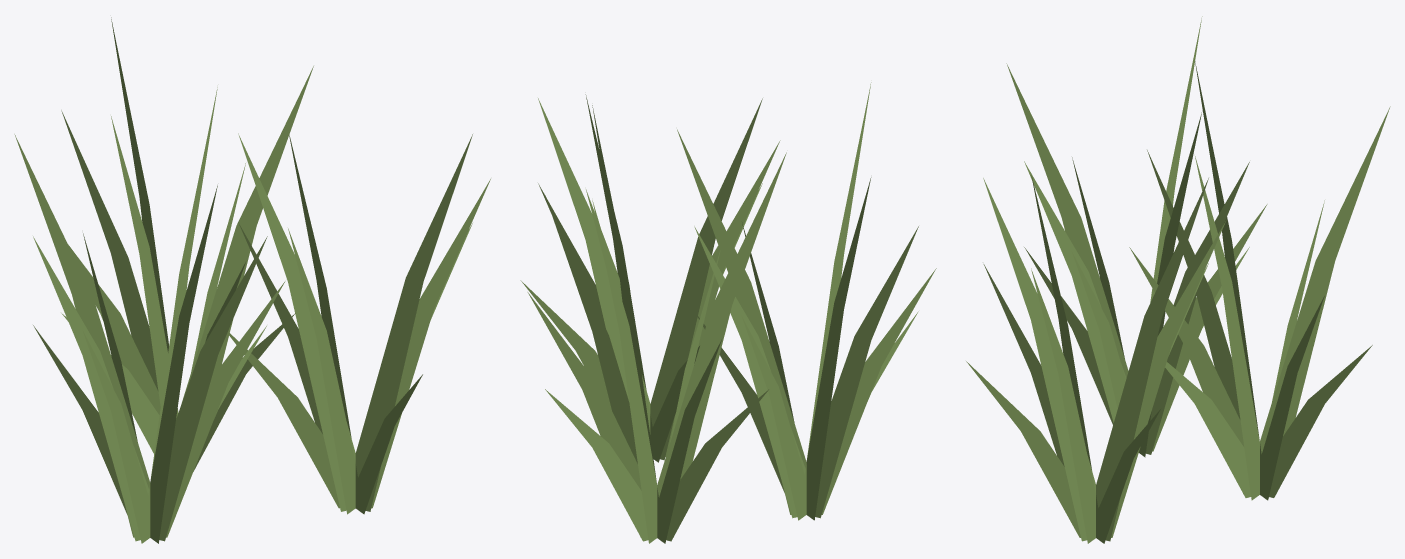
Rendered from PLAZA-024.glb.
3 views of the same model, side by side, from view 1: azimuth 30°, elevation 25°; view 2: azimuth 150°, elevation 25°; view 3: azimuth 270°, elevation 25° (orthographic). The views are drawn at different scales.
Visible parts, largest first — view 1: PLAZA-024; view 2: PLAZA-024; view 3: PLAZA-024.
Part boxes in pixels (box(x1,y1,x2,y2)): PLAZA-024: box(14, 17, 490, 543); PLAZA-024: box(520, 82, 936, 543); PLAZA-024: box(966, 16, 1390, 543).
Bounding box in the file's own units: 1.14 × 1.05 × 1.04.
